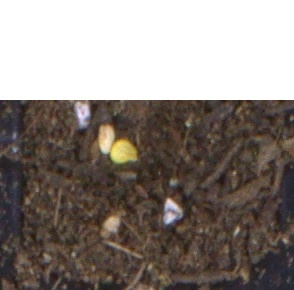chilli seed: (109, 138, 139, 164)
